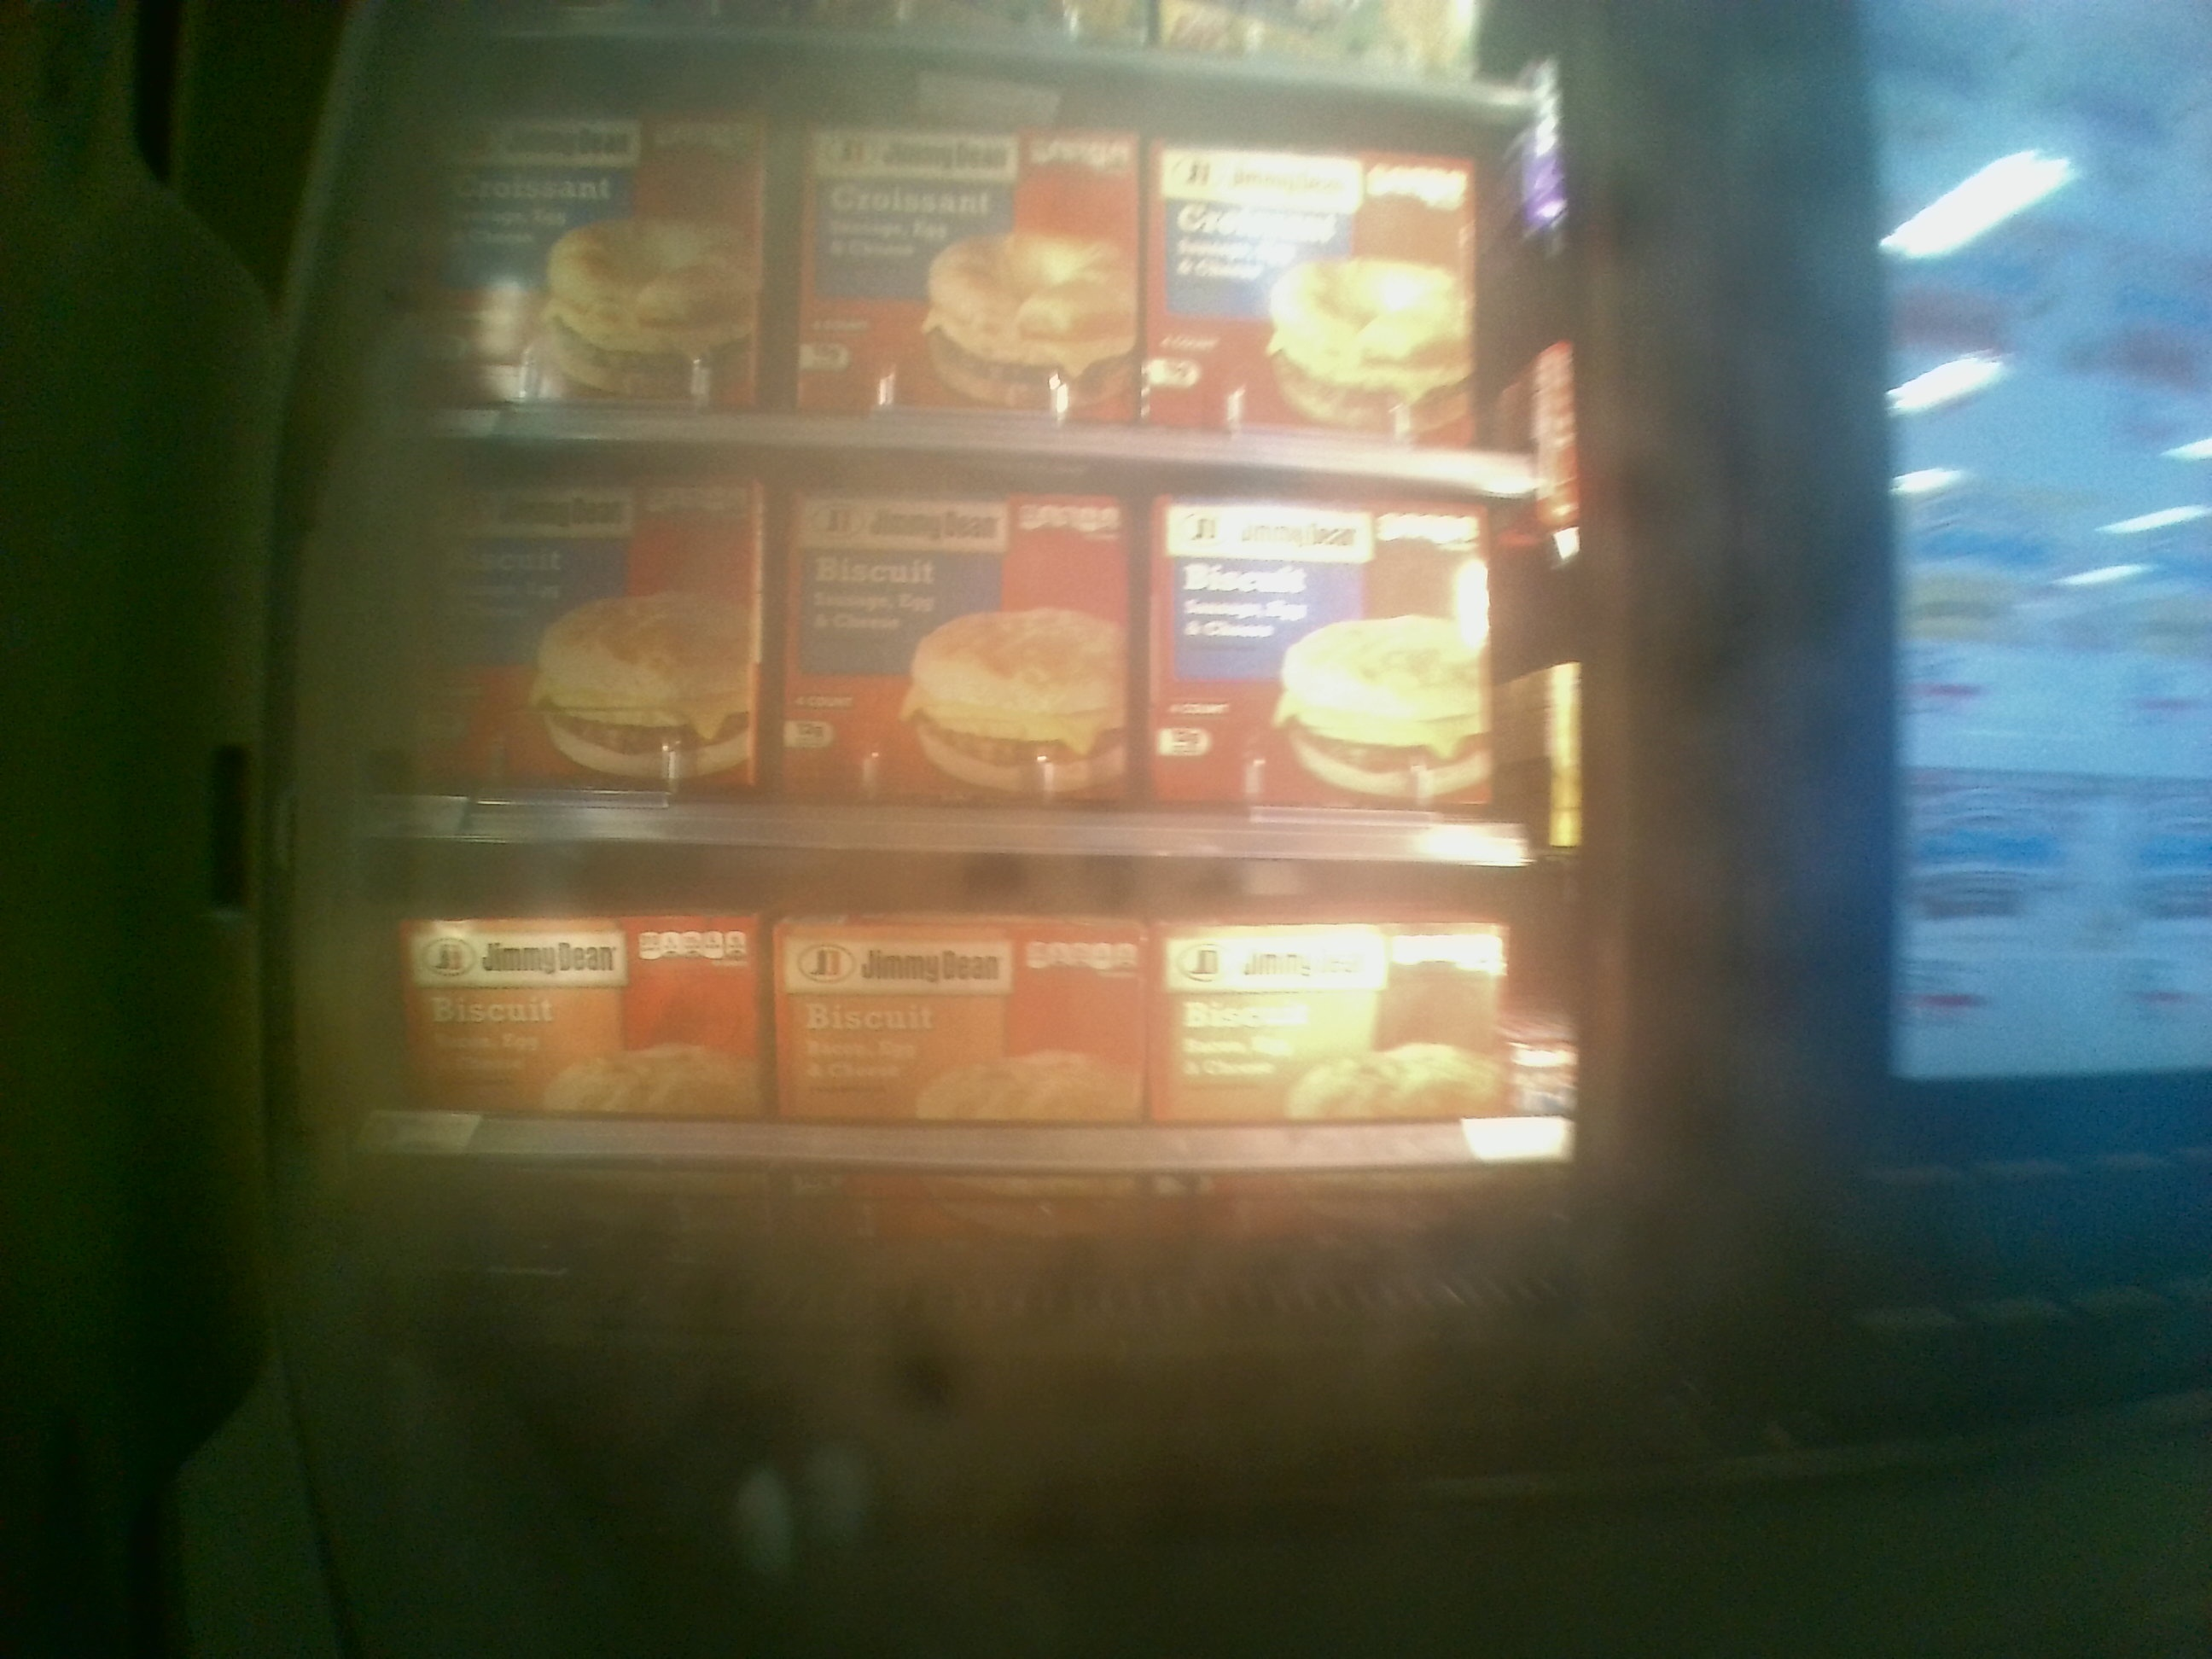shelf: (359, 842, 1576, 1274), (355, 450, 1555, 868)
